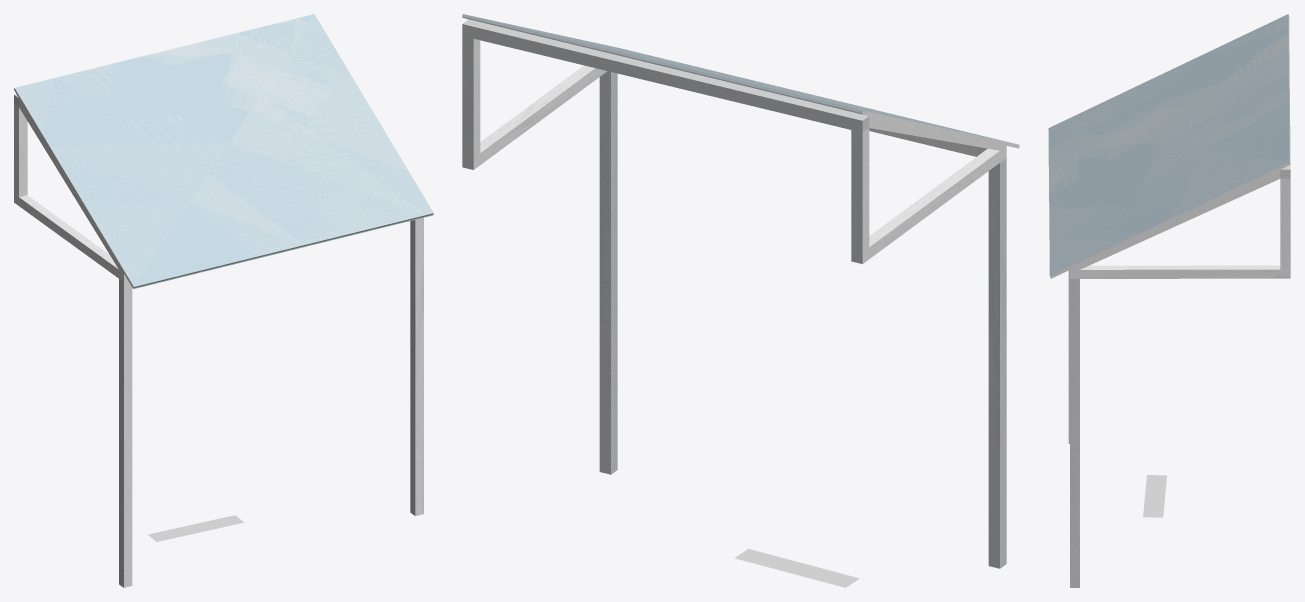
File: Koairok3.50na2.50.glb
The picture shows the model from 3 angles, left to right: view 1: azimuth 30°, elevation 25°; view 2: azimuth 150°, elevation 25°; view 3: azimuth 270°, elevation 25°; orthographic projection. The views are drawn at different scales.
Visible parts, largest first — view 1: group_1.003, group_1, Плоскость; view 2: group_1, group_1.003, Плоскость, group_1.007; view 3: group_1.003, group_1, Плоскость.
Boxes of the visible parts, left/top/right/bottom form: group_1.003: left=14, top=14, right=433, bottom=288; group_1: left=14, top=94, right=423, bottom=587; Плоскость: left=148, top=515, right=243, bottom=541; group_1: left=462, top=19, right=1006, bottom=568; group_1.003: left=462, top=14, right=1019, bottom=148; Плоскость: left=734, top=549, right=859, bottom=587; group_1.007: left=462, top=16, right=862, bottom=114; group_1.003: left=1048, top=14, right=1290, bottom=278; group_1: left=1068, top=165, right=1290, bottom=587; Плоскость: left=1143, top=475, right=1166, bottom=517.
Size of the model in its own units: 3.51 by 4.68 by 2.41.
